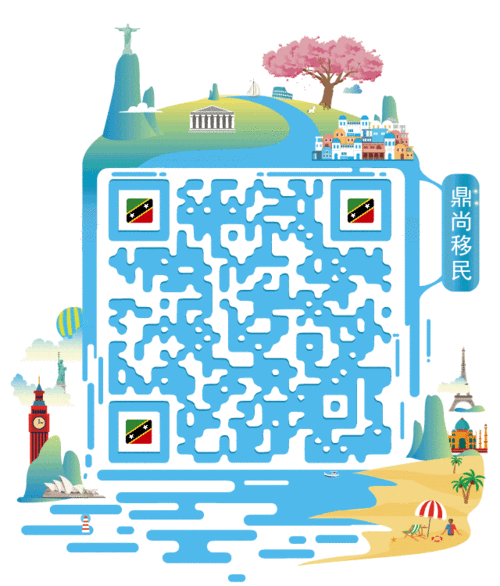QRCode: (101, 175, 399, 464)
